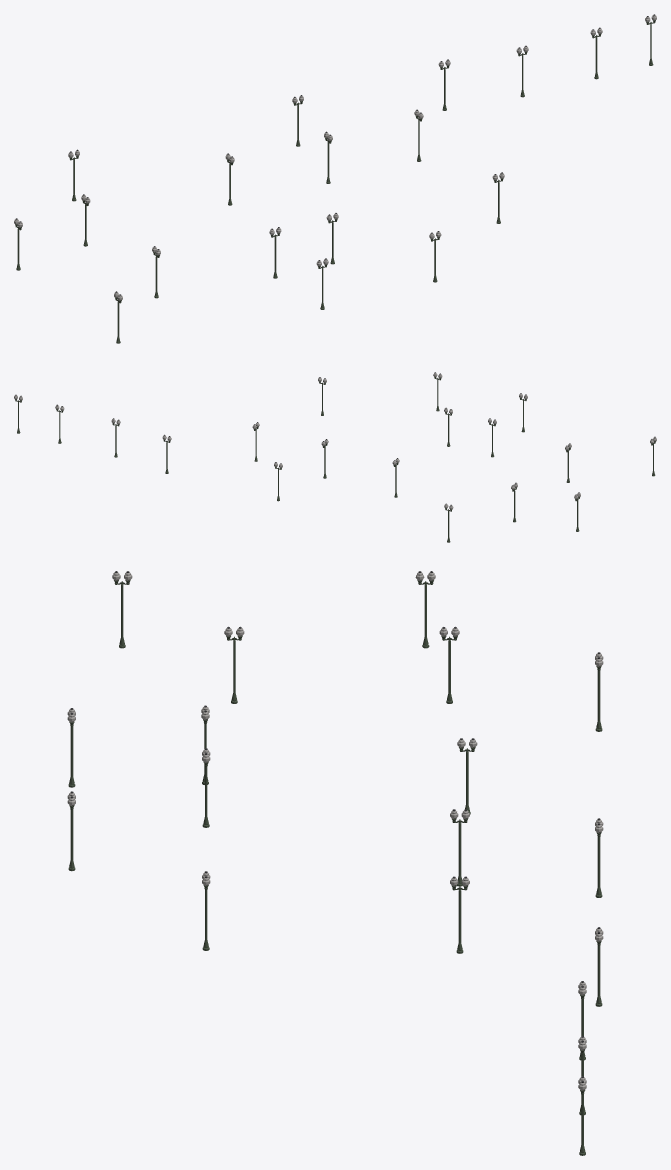
Rendered from Lighting.fbx.
3 views of the same model, one above another, from view 1: azimuth 30°, elevation 25°; view 2: azimuth 150°, elevation 25°; view 3: azimuth 270°, elevation 25° (orthographic). The views are drawn at different scales.
Size of the model in its own units: 1844 by 127 by 813.
